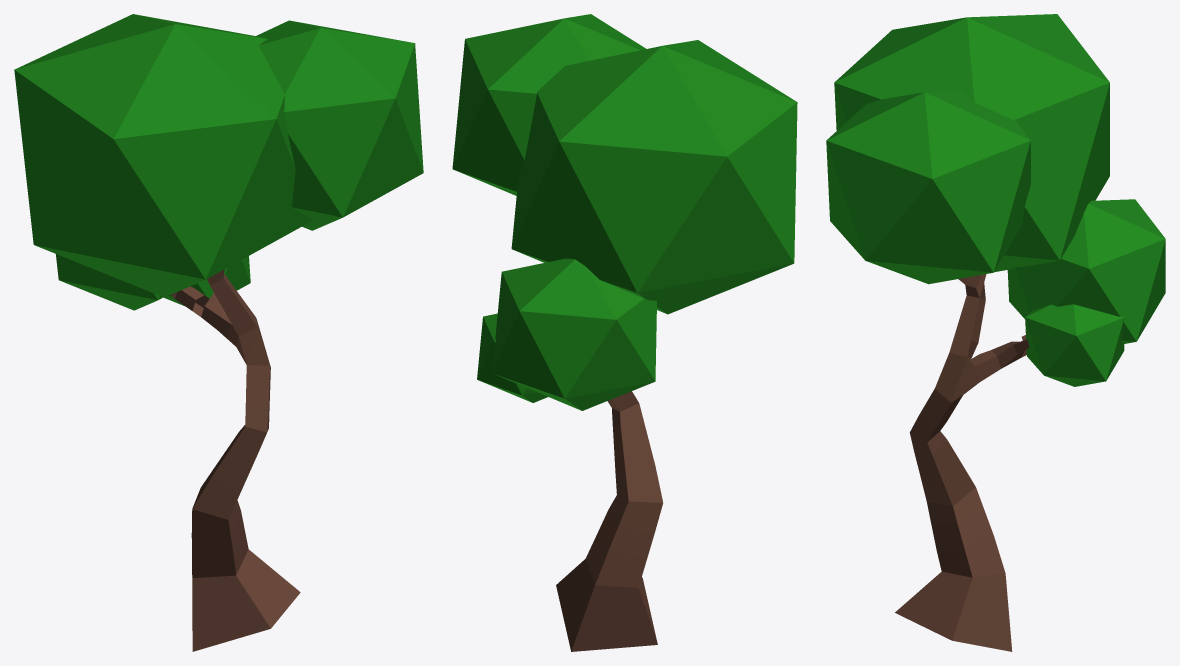
Rendered from Tree1.fbx.
The picture shows the model from 3 angles, left to right: view 1: azimuth 30°, elevation 25°; view 2: azimuth 150°, elevation 25°; view 3: azimuth 270°, elevation 25°; orthographic projection. The views are drawn at different scales.
Parts seen in each view (by area): view 1: Icosphere.002, Cube; view 2: Icosphere.002, Cube; view 3: Icosphere.002, Cube.
Boxes of the visible parts, left/top/right/bottom form: Icosphere.002: left=14, top=14, right=423, bottom=310; Cube: left=171, top=270, right=300, bottom=651; Icosphere.002: left=452, top=14, right=797, bottom=410; Cube: left=556, top=391, right=663, bottom=651; Icosphere.002: left=826, top=14, right=1165, bottom=386; Cube: left=895, top=274, right=1029, bottom=651.
Bounding box in the file's own units: 1459 × 2418 × 1237.
